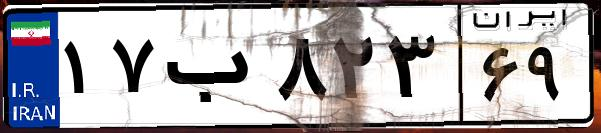1: (57, 26, 110, 100)
2: (330, 28, 385, 110)
3: (385, 28, 445, 110)
6: (475, 38, 525, 113)
7: (110, 28, 158, 98)
8: (270, 28, 330, 110)
9: (525, 38, 570, 115)
ب: (158, 20, 270, 120)
